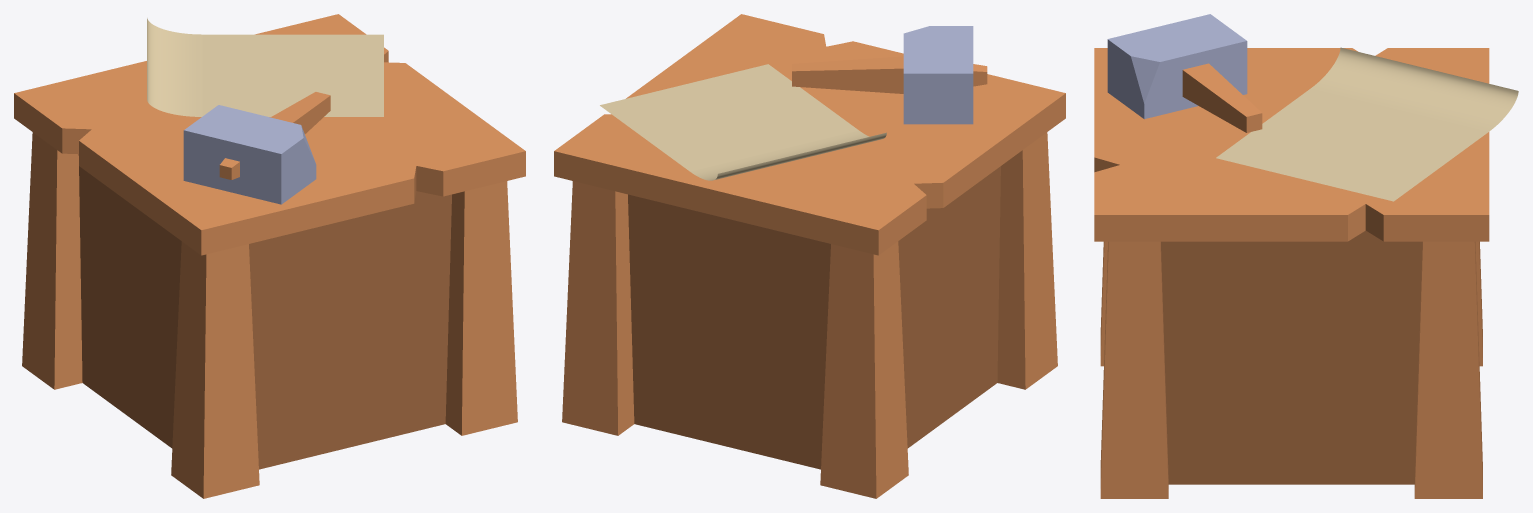
File: workbench.dae
The picture shows the model from 3 angles, left to right: view 1: azimuth 30°, elevation 25°; view 2: azimuth 150°, elevation 25°; view 3: azimuth 270°, elevation 25°; orthographic projection. The views are drawn at different scales.
Visible parts, largest first — view 1: workbench, paper, hammer; view 2: workbench, paper, hammer; view 3: workbench, paper, hammer.
Boxes of the visible parts, x1,y1,x2,y2 form: workbench: (14, 14, 525, 498); paper: (147, 18, 383, 116); hammer: (183, 92, 330, 204); workbench: (554, 14, 1065, 498); paper: (600, 64, 886, 180); hammer: (792, 26, 987, 124); workbench: (1094, 48, 1489, 498); paper: (1216, 47, 1518, 201); hammer: (1107, 14, 1262, 132).
Size of the model in its own units: 1.08 by 1.02 by 1.16.
